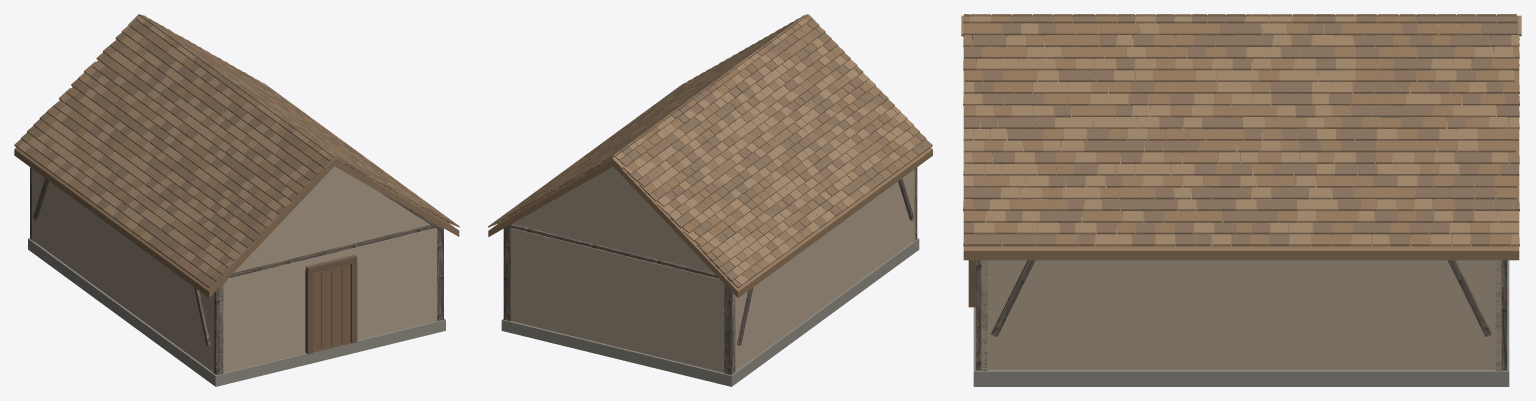
File: beam_B_roughwood.glb
3 renders of one model, left to right at view 1: azimuth 30°, elevation 25°; view 2: azimuth 150°, elevation 25°; view 3: azimuth 270°, elevation 25°, orthographic. The views are drawn at different scales.
Parts seen in each view (by area): view 1: 09A_ShingleField.003, 08A_SideClay.006, 08A_GableClay.006, 08A_FrontClay.006, 08A_FrontClay.007, 08A_Sill.003, 09A_Deck.006, 08A_Door.003, 09A_Deck.007, 08A_EndWallPlate.006, 08A_CornerPost.012, 08A_DoorJamb.006 (+3 smaller); view 2: 09A_ShingleField.003, 08A_RearClay.003, 08A_SideClay.006, 08A_GableClay.007, 08A_Sill.003, 09A_Deck.006, 09A_Deck.007, 08A_EndWallPlate.007, 08A_CornerPost.013, 08A_CornerPost.015; view 3: 09A_ShingleField.003, 08A_SideClay.007, 09A_Deck.007, 08A_Sill.003, 08A_CornerPost.014, 08A_CornerPost.015, 08A_SideBrace.014, 08A_SideBrace.015.
Part boxes in pixels (x1,y1,x2,y2): 09A_ShingleField.003: [14, 14, 459, 287]; 08A_SideClay.006: [32, 168, 214, 372]; 08A_GableClay.006: [233, 166, 430, 272]; 08A_FrontClay.006: [219, 259, 310, 372]; 08A_FrontClay.007: [350, 228, 437, 340]; 08A_Sill.003: [28, 238, 445, 386]; 09A_Deck.006: [14, 147, 334, 297]; 08A_Door.003: [313, 264, 350, 352]; 09A_Deck.007: [334, 160, 459, 236]; 08A_EndWallPlate.006: [228, 225, 435, 278]; 08A_CornerPost.012: [212, 284, 223, 374]; 08A_DoorJamb.006: [305, 269, 312, 354]; 09A_ShingleField.003: [488, 14, 932, 288]; 08A_RearClay.003: [508, 228, 727, 373]; 08A_SideClay.006: [733, 169, 915, 372]; 08A_GableClay.007: [513, 166, 713, 272]; 08A_Sill.003: [501, 238, 919, 386]; 09A_Deck.006: [613, 148, 932, 297]; 09A_Deck.007: [488, 159, 613, 236]; 08A_EndWallPlate.007: [511, 224, 719, 278]; 08A_CornerPost.013: [724, 284, 735, 374]; 08A_CornerPost.015: [503, 223, 512, 321]; 09A_ShingleField.003: [963, 14, 1519, 246]; 08A_SideClay.007: [981, 260, 1501, 369]; 09A_Deck.007: [963, 36, 1519, 260]; 08A_Sill.003: [973, 260, 1509, 386]; 08A_CornerPost.014: [975, 260, 987, 370]; 08A_CornerPost.015: [1495, 260, 1507, 370]; 08A_SideBrace.014: [991, 260, 1035, 336]; 08A_SideBrace.015: [1447, 260, 1491, 336].
Size of the model in its own units: 5.78 by 4.53 by 7.87.
8 materials, 1 textured.
